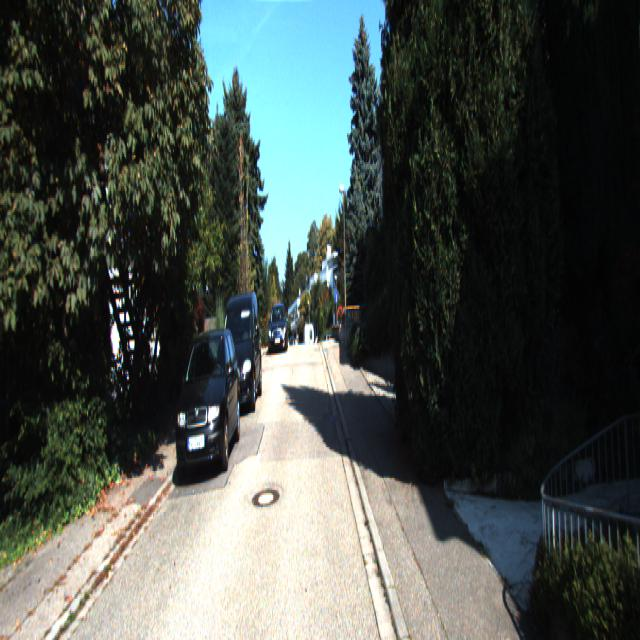Car: (174, 328, 241, 483), (217, 288, 263, 416), (268, 303, 288, 354)
